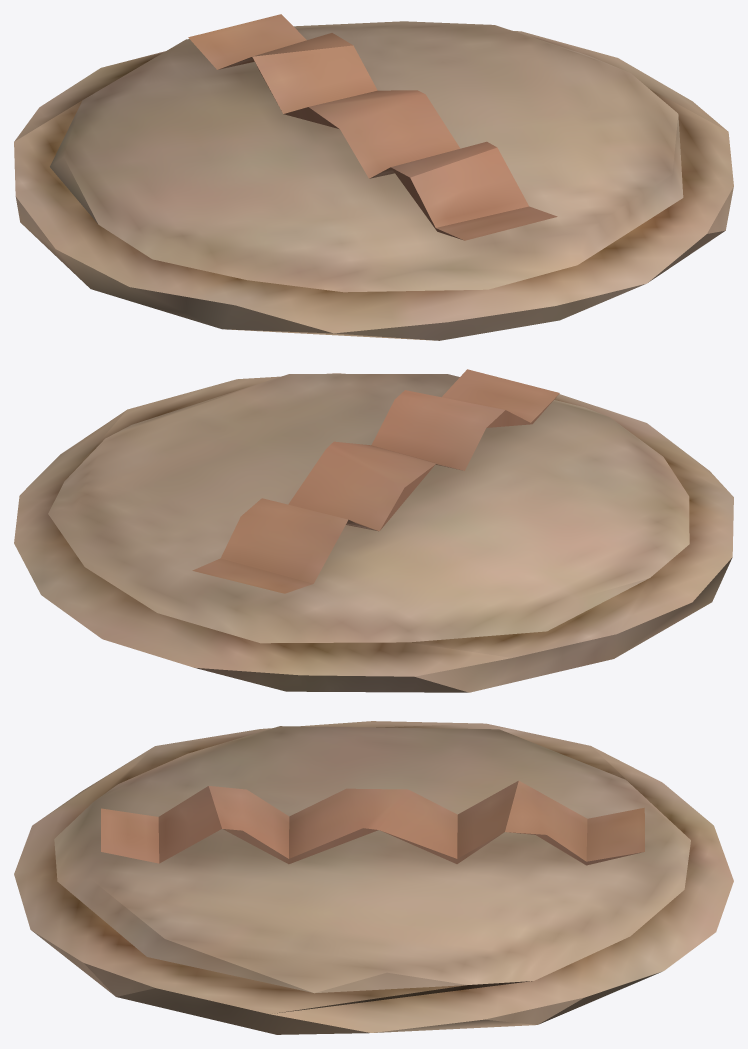
File: powder-puff.lod1.glb
3 views of the same model, one above another, from view 1: azimuth 30°, elevation 25°; view 2: azimuth 150°, elevation 25°; view 3: azimuth 270°, elevation 25° (orthographic).
Parts seen in each view (by area): view 1: powder-puff; view 2: powder-puff; view 3: powder-puff.
Boxes of the visible parts, left/top/right/bottom form: powder-puff: left=14, top=14, right=733, bottom=340; powder-puff: left=14, top=369, right=733, bottom=692; powder-puff: left=14, top=721, right=733, bottom=1034.
Bounding box in the file's own units: 0.0546 × 0.00766 × 0.0545.
1 material, 1 textured.
